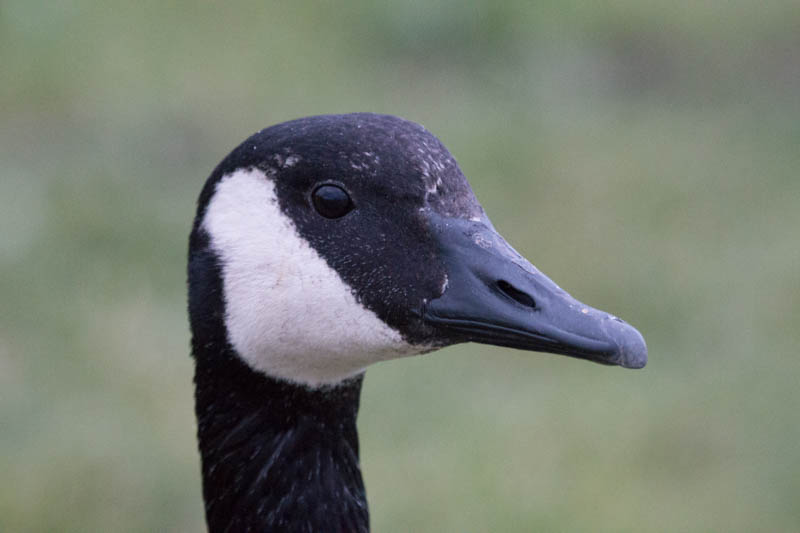goose-head: (188, 113, 648, 391)
